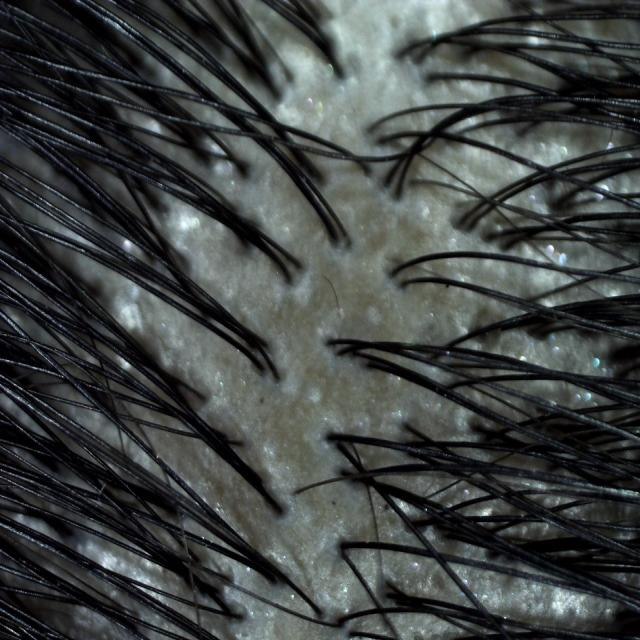roots: (334, 605, 354, 632), (335, 532, 355, 555), (393, 39, 412, 63), (234, 158, 253, 182), (360, 120, 380, 142), (285, 251, 304, 274), (398, 272, 416, 296), (319, 426, 338, 448), (288, 482, 307, 504), (264, 568, 282, 591), (360, 355, 379, 376), (382, 575, 401, 596), (372, 130, 390, 152), (331, 434, 349, 456), (312, 600, 328, 624), (383, 264, 402, 284), (308, 164, 327, 184), (389, 182, 407, 203), (267, 367, 285, 388), (411, 49, 429, 70), (336, 221, 353, 243), (424, 67, 441, 89), (324, 222, 341, 244), (336, 546, 353, 568), (279, 262, 296, 283), (254, 331, 269, 354), (454, 210, 473, 228), (346, 343, 364, 362), (466, 213, 481, 235), (480, 227, 497, 246), (499, 236, 517, 253), (331, 61, 347, 80), (379, 171, 395, 190), (253, 357, 268, 377), (326, 330, 341, 350), (338, 464, 352, 484), (358, 162, 373, 180), (253, 468, 268, 486), (333, 344, 347, 363), (283, 66, 296, 86), (274, 503, 287, 523), (267, 82, 281, 100), (232, 434, 246, 452), (195, 391, 207, 410), (240, 583, 244, 583)
